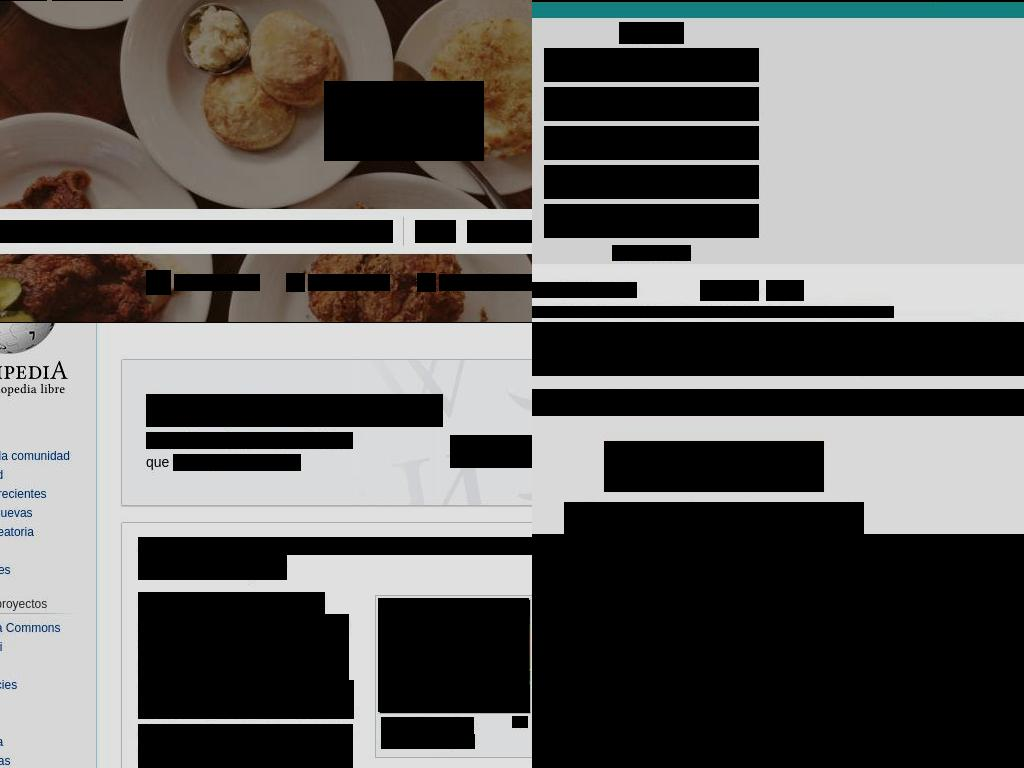button: (604, 441, 824, 492), (604, 458, 824, 474), (450, 442, 525, 459), (700, 280, 759, 301), (766, 280, 804, 301)
field: (0, 220, 393, 243), (0, 220, 393, 243), (544, 48, 759, 82), (544, 87, 759, 121), (544, 126, 759, 160), (544, 165, 759, 199), (544, 204, 759, 238)
heading: (0, 322, 143, 768), (532, 322, 1024, 376), (658, 326, 1024, 376), (324, 81, 484, 161), (289, 394, 443, 427), (146, 394, 290, 427), (138, 555, 287, 580), (0, 596, 79, 611)
image: (532, 534, 1024, 768), (378, 598, 529, 712), (638, 609, 786, 693), (806, 639, 954, 723), (0, 322, 88, 403), (972, 639, 1024, 744), (806, 609, 954, 634), (532, 609, 620, 634), (532, 639, 620, 664), (532, 669, 620, 694), (972, 609, 1024, 634), (146, 270, 171, 295), (286, 273, 305, 292), (417, 273, 436, 292), (512, 716, 528, 728)
link: (173, 454, 297, 471), (209, 614, 322, 631), (439, 274, 532, 291), (248, 680, 335, 697), (174, 274, 260, 291), (308, 274, 390, 291), (138, 724, 207, 741), (0, 448, 71, 463), (221, 724, 280, 741), (0, 620, 62, 635), (0, 486, 48, 501), (437, 734, 475, 749), (0, 524, 35, 539), (0, 505, 34, 520), (0, 677, 18, 692)
text: (138, 614, 349, 697), (532, 389, 1024, 416), (564, 502, 864, 544), (138, 724, 353, 768), (138, 680, 354, 719), (138, 592, 325, 631), (138, 537, 532, 555), (146, 432, 353, 449), (532, 306, 780, 318), (381, 717, 474, 749), (450, 435, 526, 468), (164, 592, 281, 609), (532, 282, 637, 298), (619, 22, 684, 44), (779, 306, 894, 318), (612, 245, 691, 261), (415, 220, 456, 243), (700, 285, 759, 297), (146, 454, 173, 471), (766, 285, 804, 297), (138, 592, 164, 609), (206, 724, 221, 741), (296, 454, 301, 471)
